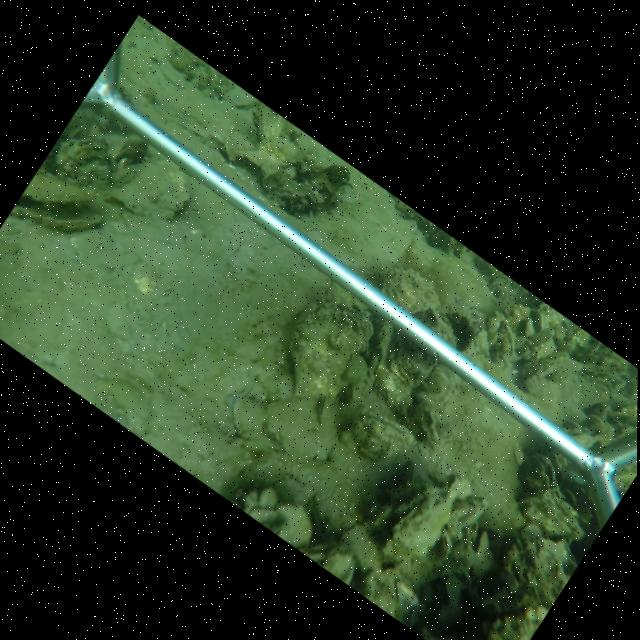Oyster-Closed: (287, 297, 377, 396), (378, 491, 454, 563), (350, 411, 416, 463), (9, 206, 106, 237), (413, 368, 462, 416), (253, 106, 286, 140), (336, 523, 366, 548), (530, 327, 555, 350), (314, 397, 332, 426), (438, 531, 452, 563)
Oyster-Indeterminate: (102, 158, 190, 225), (380, 263, 444, 315), (21, 168, 94, 207), (517, 451, 564, 502), (230, 395, 263, 441)
